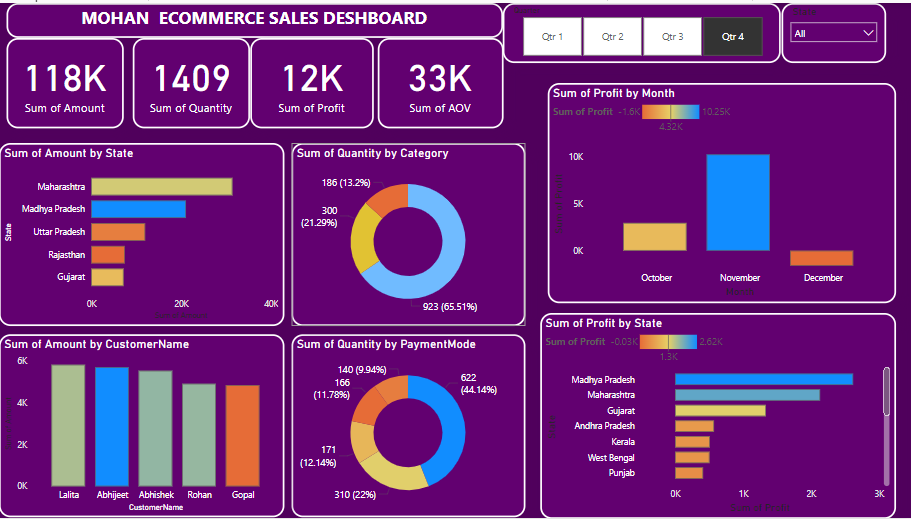

This screenshot's page, from the dashboard's own definition file:
{"tool":"powerbi","page":{"name":"Page 1","canvas":[1280,720],"ordinal":0},"visuals":[{"type":"columnChart","fields":{"Y":["Details.Profit"],"Category":["Orders.Order Date.Variation.Date Hierarchy.Month"]},"box":[767.2,112.4,487.6,307.7],"z":0},{"type":"textbox","box":[11.2,0,694.1,49.2],"z":1000},{"type":"barChart","fields":{"Category":["Orders.State"],"Y":["Details.Profit"]},"box":[757.3,432.8,497.4,288],"z":2000},{"type":"donutChart","fields":{"Category":["Details.PaymentMode"],"Y":["Details.Quantity"]},"box":[408.9,463.7,327.4,255.7],"z":3000},{"type":"donutChart","fields":{"Category":["Details.Category"],"Y":["Details.Quantity"]},"box":[408.9,195.3,327.4,255.7],"z":4000},{"type":"card","fields":{"Values":["Details.Amount"]},"box":[11.2,49.2,164.4,126.5],"z":5000},{"type":"card","fields":{"Values":["Details.Quantity"]},"box":[186.9,49.2,164.4,126.5],"z":6000},{"type":"card","fields":{"Values":["Details.Profit"]},"box":[351.3,49.2,172.8,126.5],"z":7000},{"type":"card","fields":{"Values":["Details.AOV"]},"box":[529.7,49.2,175.6,126.5],"z":8000},{"type":"barChart","fields":{"Category":["Orders.State"],"Y":["Details.Amount"]},"box":[0,195.3,399,255.7],"z":9000},{"type":"columnChart","fields":{"Category":["Orders.CustomerName"],"Y":["Details.Amount"]},"box":[0,463.7,399,255.7],"z":10000},{"type":"slicer","fields":{"Values":["Orders.Order Date.Variation.Date Hierarchy.Quarter"]},"box":[705.3,0,389.2,84.3],"z":11000},{"type":"slicer","fields":{"Values":["Orders.State"]},"box":[1094.5,0,146.1,84.3],"z":12000}]}

Visuals, with their boxes in screenshot pixels (x1, y1, x2, y2), scaled from the page's 1280x720 canvas onto the 911x519 screenshot:
columnChart - Details.Profit x Orders.Order Date.Variation.Date Hierarchy.Month: [546, 81, 893, 303]
textbox: [8, 0, 502, 35]
barChart - Orders.State x Details.Profit: [539, 312, 893, 518]
donutChart - Details.PaymentMode x Details.Quantity: [291, 334, 524, 518]
donutChart - Details.Category x Details.Quantity: [291, 141, 524, 325]
card - Details.Amount: [8, 35, 125, 127]
card - Details.Quantity: [133, 35, 250, 127]
card - Details.Profit: [250, 35, 373, 127]
card - Details.AOV: [377, 35, 502, 127]
barChart - Orders.State x Details.Amount: [0, 141, 284, 325]
columnChart - Orders.CustomerName x Details.Amount: [0, 334, 284, 518]
slicer - Orders.Order Date.Variation.Date Hierarchy.Quarter: [502, 0, 779, 61]
slicer - Orders.State: [779, 0, 883, 61]
